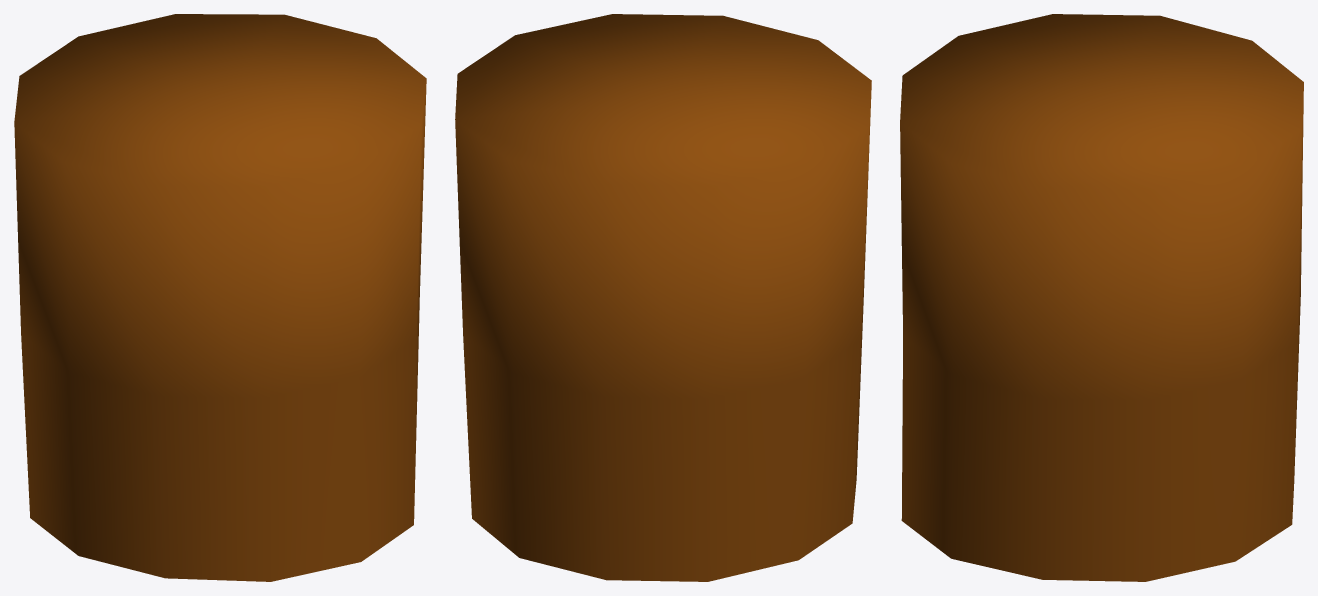
File: garrafa_bebida.fbx
3 renders of one model, left to right at view 1: azimuth 30°, elevation 25°; view 2: azimuth 150°, elevation 25°; view 3: azimuth 270°, elevation 25°, orthographic.
Visible parts, largest first — view 1: garrafa_bebida; view 2: garrafa_bebida; view 3: garrafa_bebida.
Boxes of the visible parts, x1=… form: garrafa_bebida: x1=14, y1=14, x2=426, y2=581; garrafa_bebida: x1=455, y1=14, x2=871, y2=581; garrafa_bebida: x1=900, y1=14, x2=1303, y2=581.
Size of the model in its own units: 9.82 by 10.36 by 9.51.
